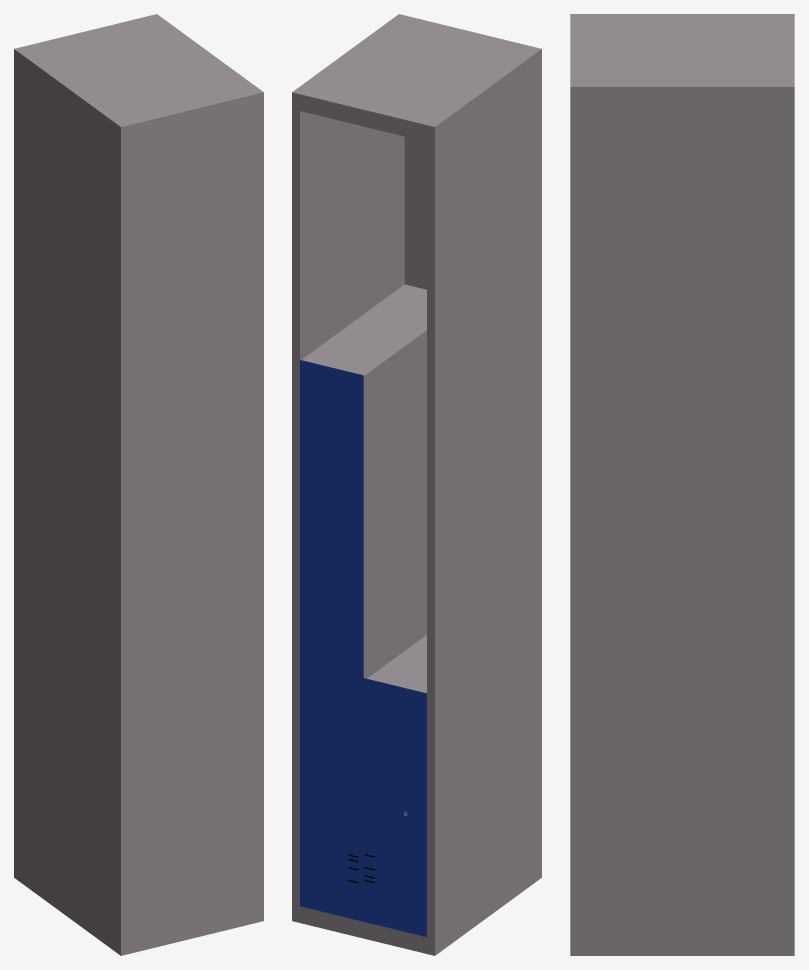
The model's file is LockerInsideB.glb.
3 views of the same model, side by side, from view 1: azimuth 30°, elevation 25°; view 2: azimuth 150°, elevation 25°; view 3: azimuth 270°, elevation 25° (orthographic). The views are drawn at different scales.
Parts seen in each view (by area): view 1: Cube; view 2: Cube, Cube.001; view 3: Cube.
Boxes of the visible parts, x1,y1,x2,y2 form: Cube: (14,14,263,955); Cube: (292,14,541,955); Cube.001: (300,360,426,937); Cube: (570,14,794,955).
Bounding box in the file's own units: 2 × 11.08 × 2.6.
